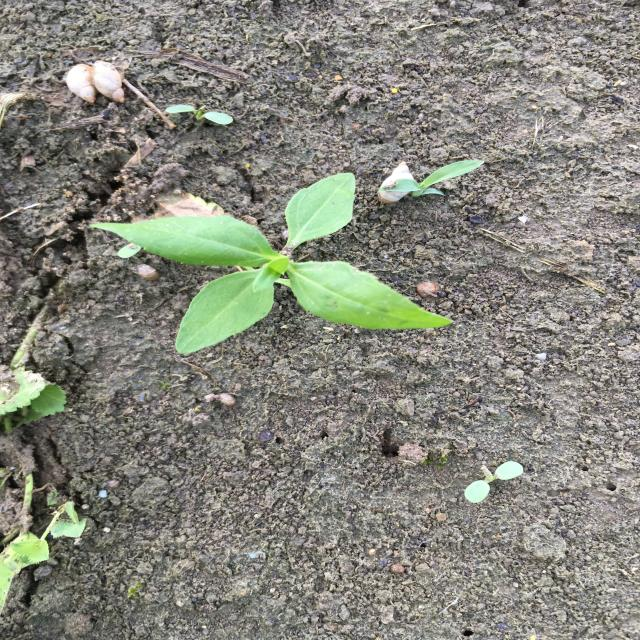Eclipta: (86, 168, 458, 356)
